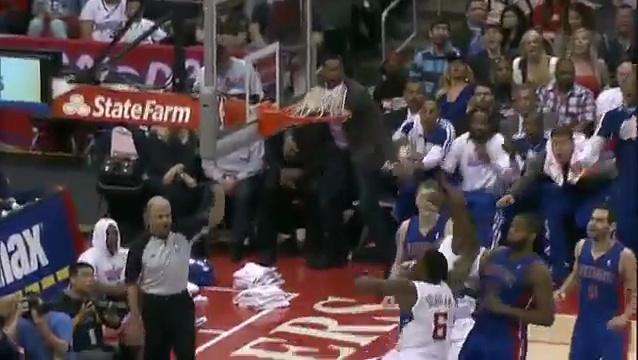Backboard: (205, 0, 317, 128)
Made Basket: (281, 78, 349, 137)
Person: (451, 211, 565, 358), (356, 236, 481, 360), (557, 205, 638, 357), (390, 176, 459, 267)
Referee: (125, 180, 222, 360)
